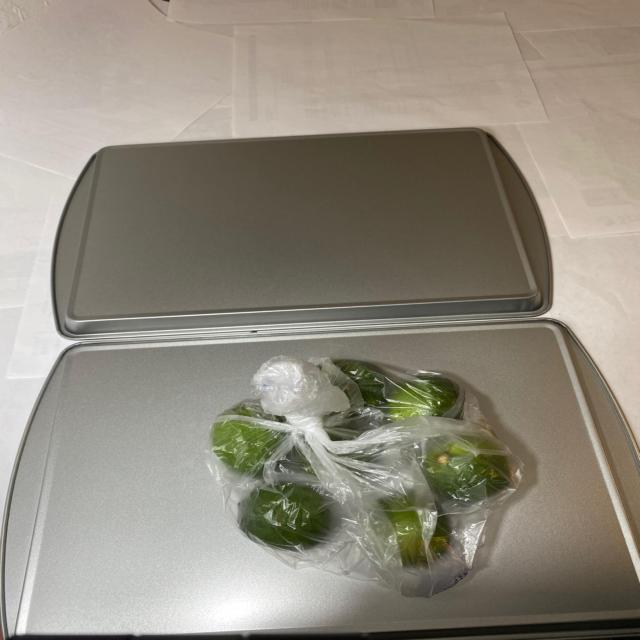lemon: (214, 357, 517, 572)
